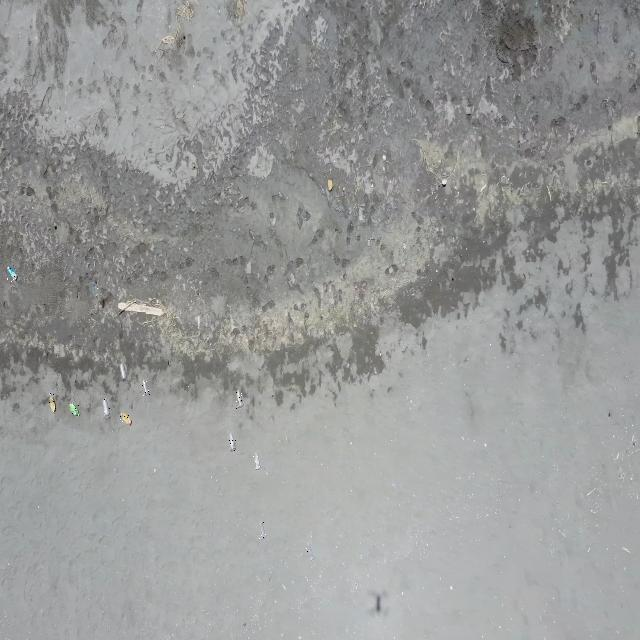plastic-bottle: (7, 266, 18, 282), (120, 412, 132, 426), (69, 403, 80, 418), (49, 392, 56, 412)
takeaway-cup: (90, 278, 98, 298), (236, 390, 244, 409), (306, 542, 314, 561), (119, 363, 127, 381), (103, 398, 110, 418), (253, 450, 260, 470), (229, 432, 236, 452), (142, 380, 150, 396), (259, 522, 266, 540)
